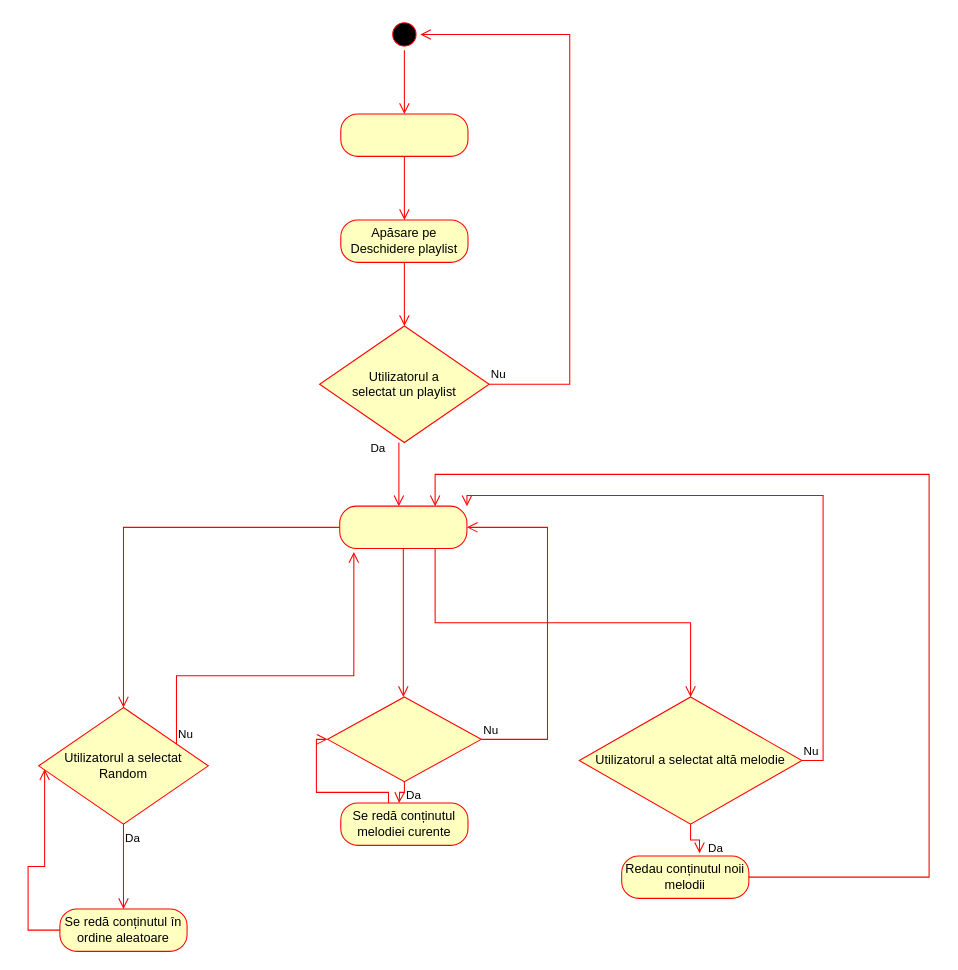
Image size: 958x970. Some labels were removed from this diagram. Each missing label, with the centre of its shape:
"Apăsare pe Meniu" belongs at point 404,134.
"Se redă conținutul secvențial" belongs at point 403,527.
"Utilizatorul a selectat Loop" belongs at point 403,739.
